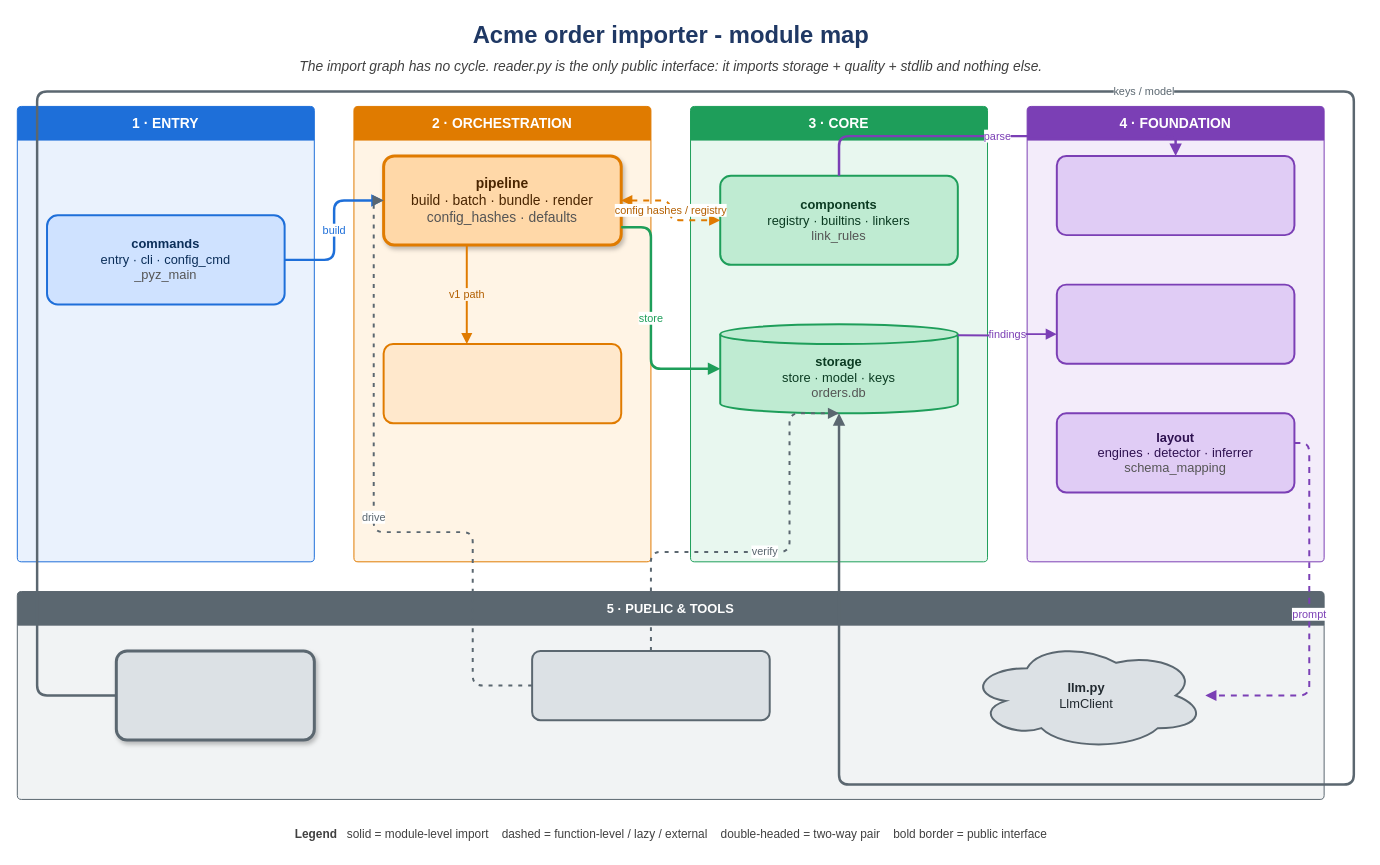
Some shapes in this 1380 by 865 pixel diagram are drawn without their labels. The centre of each missing label's shape, as x and y in pixels:
"harness cli · verify · stats · evals" belongs at pixel 650 685.
"parsing records · sku_parser row_filters · aliases" belongs at pixel 1175 195.
"quality lint · findings" belongs at pixel 1175 323.
"reader.py stdlib-only interface storage + quality only" belongs at pixel 215 696.
"v1 parser · db_builder shares parsing.records" belongs at pixel 502 383.
